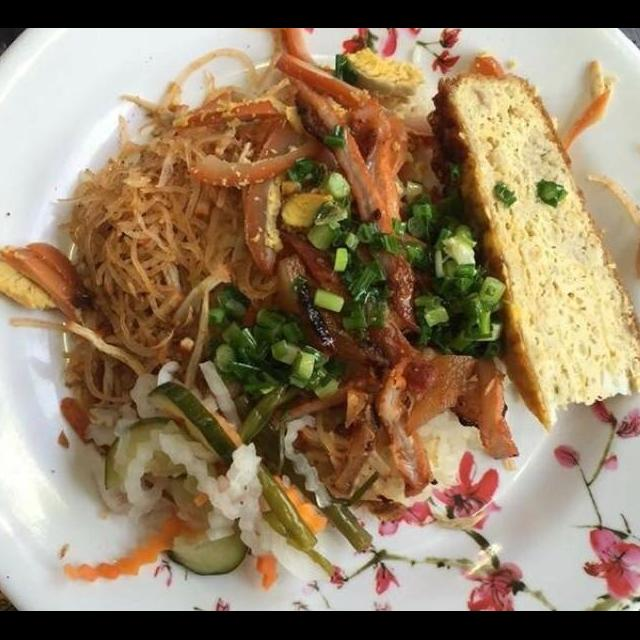bi: (179, 135, 640, 309)
com suon bi trung: (0, 78, 640, 610)
dua chua: (0, 137, 267, 362)
suon: (48, 278, 640, 460)
trung: (156, 390, 640, 558), (375, 223, 640, 346), (301, 79, 444, 165), (568, 331, 640, 417)
